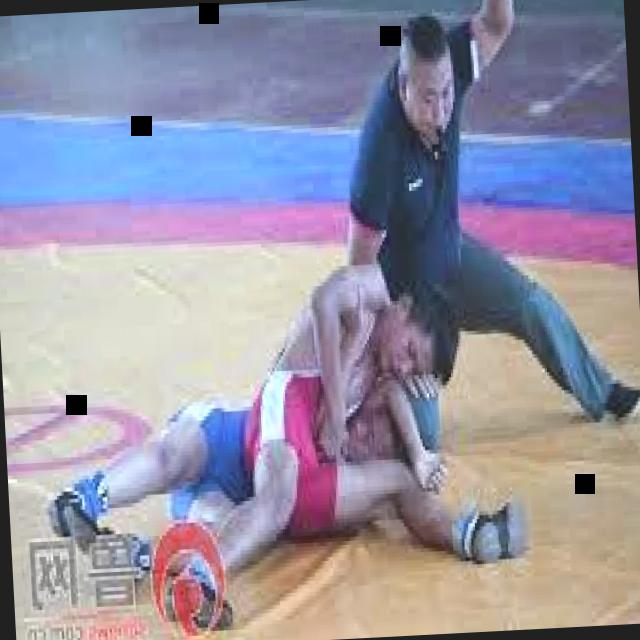Fall-Detected: (26, 228, 506, 618)
